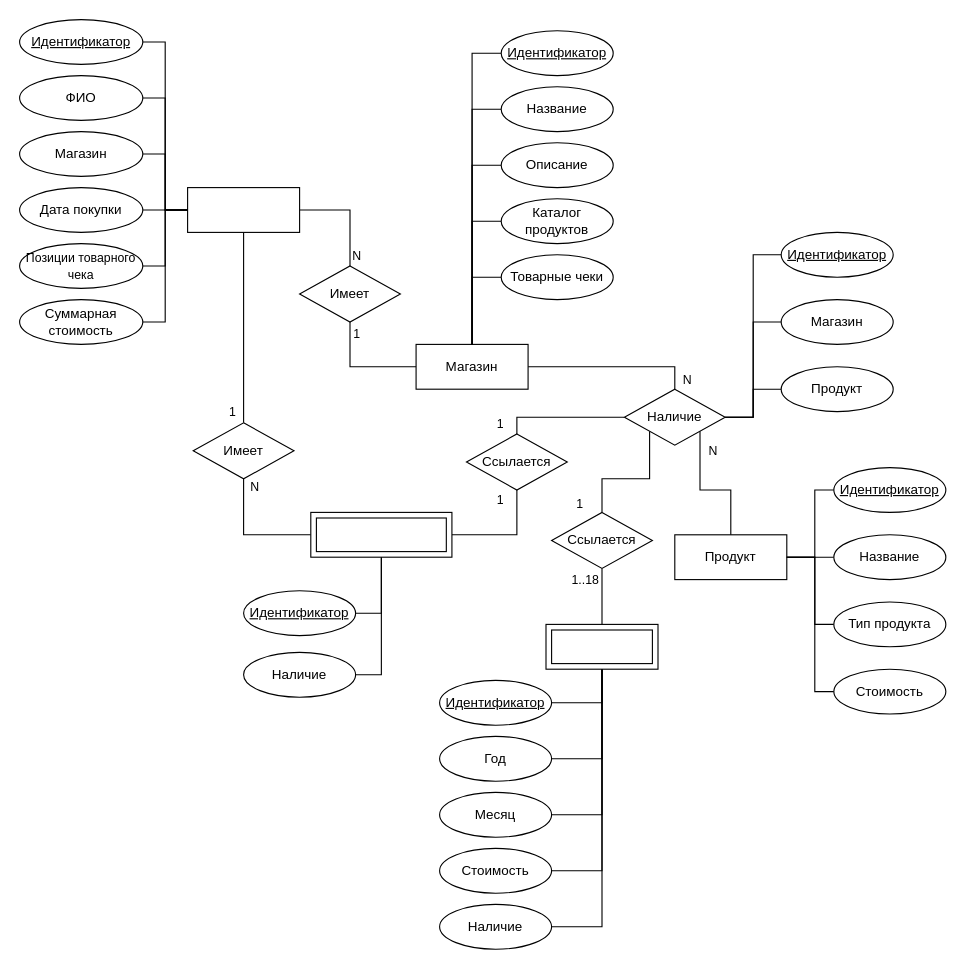
The diagram is 965 pixels wide and 969 high, and some of its shapes have lost their labels. The shapes that lost their labels are listed below. From the top down, each one's centre as x and y in pixels, then its label:
At (x=243, y=209): "Товарный чек".
At (x=381, y=534): "Позиция товарного чека".
At (x=601, y=646): "История цены".
